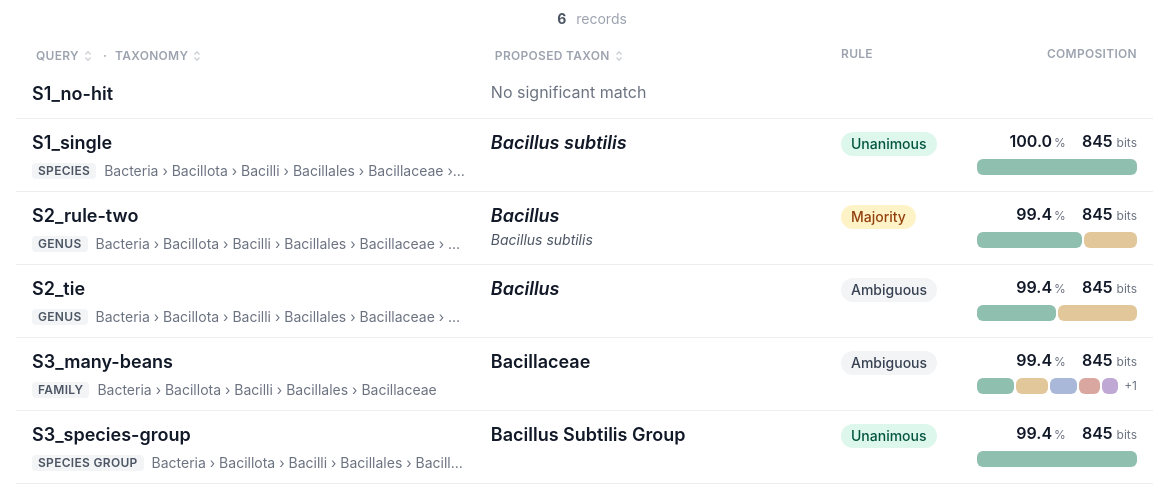
Scenario: Table › sorting › the 'Original order' button restores the file order
The width and height of the screenshot is (1170, 501).
Click the button with aria-label "Sort by Proposed taxon".
click(560, 56)  # box [491,46,630,66]
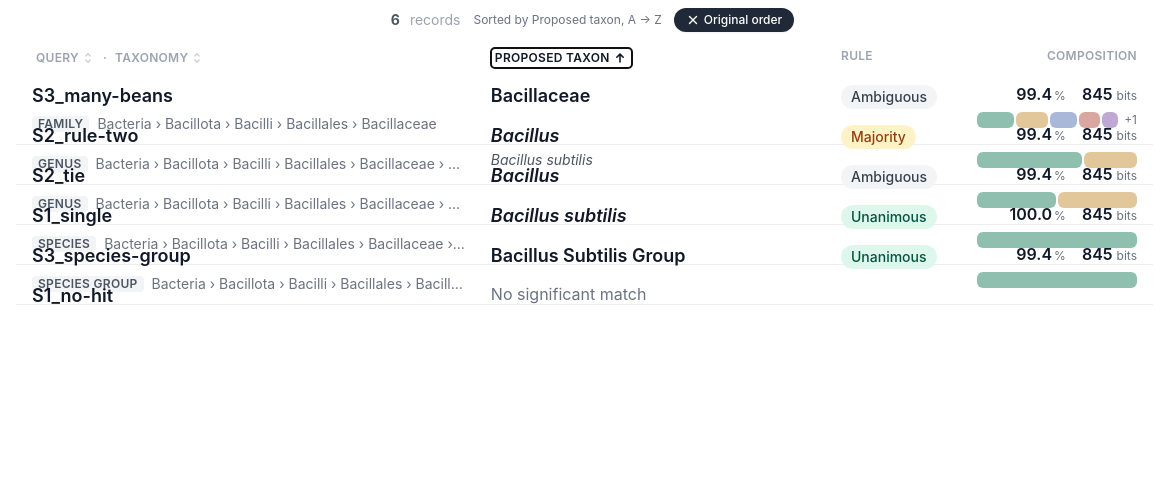
Click the button "Original order".
click(734, 20)  # box [674,8,794,32]
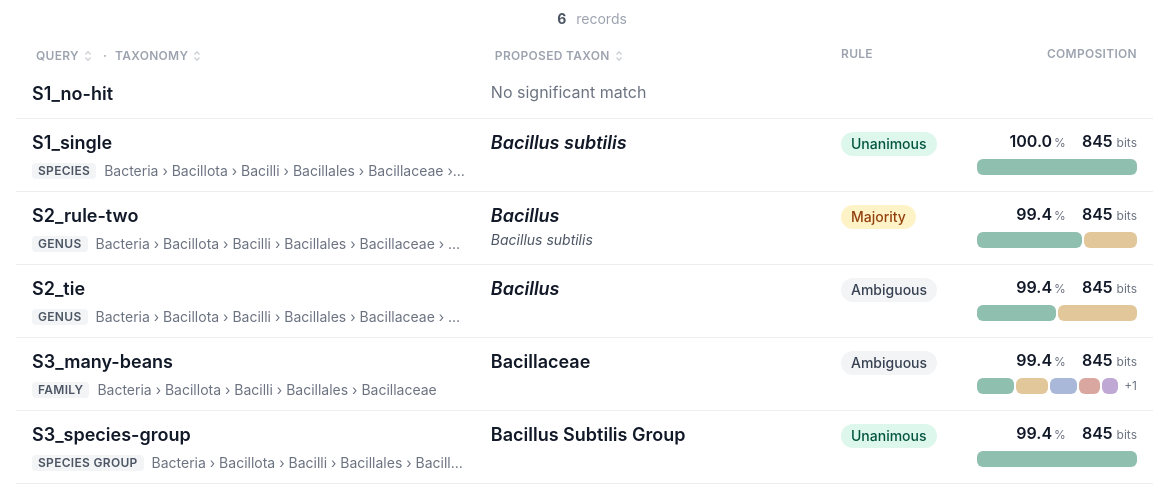
Now the button "Original order" is gone
